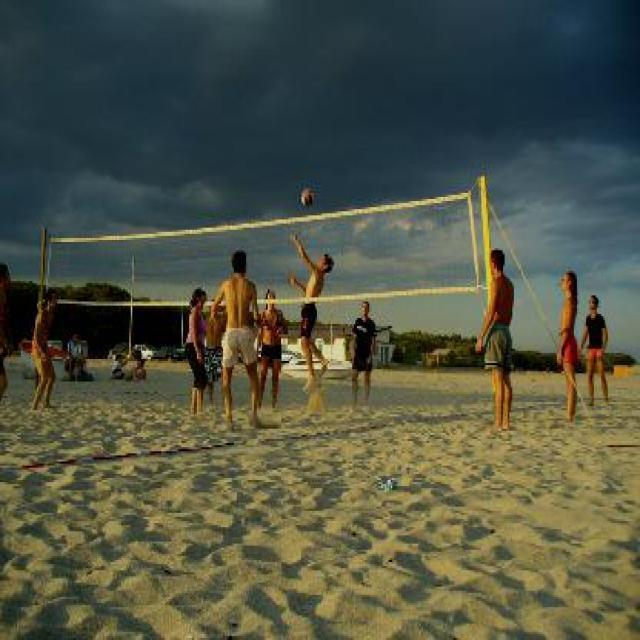volleyball: (298, 185, 317, 208)
